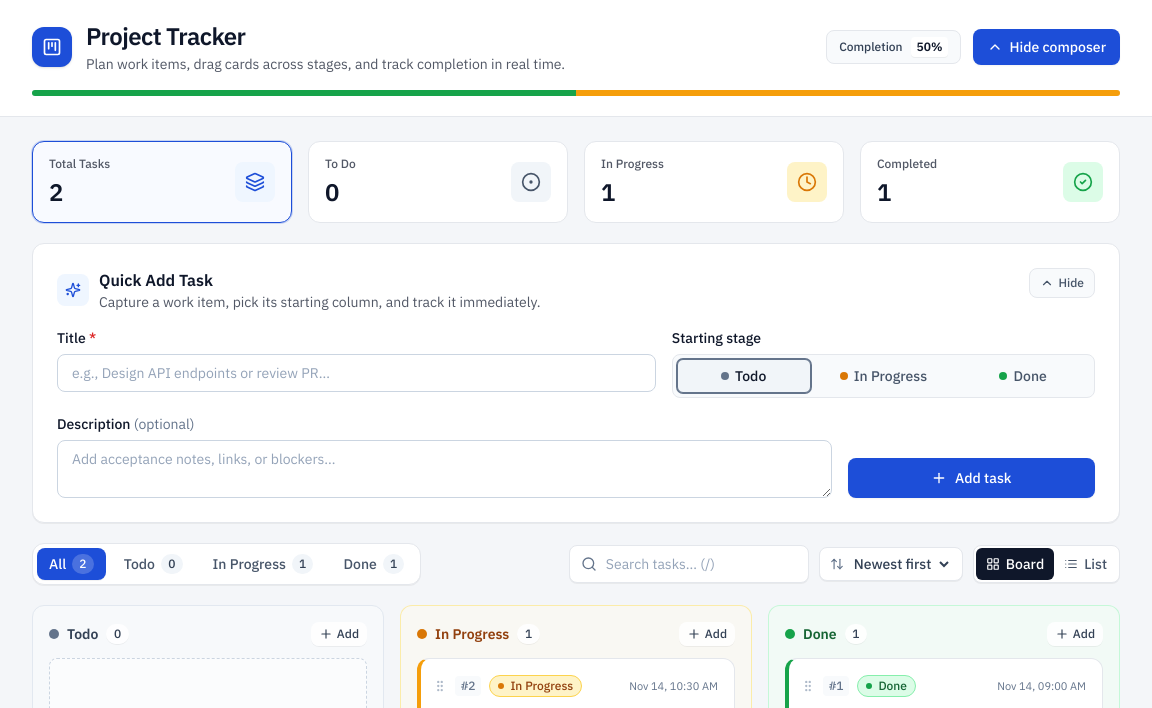
Test: Project Tracker App › filters tasks via search query and sorts items client-side
Sort alphabetically: Build React frontend comes before Setup FastAPI backend
Select "Title (A–Z)" in the dropdown named "Sort tasks" at [901, 564], box [850,554,952,574]
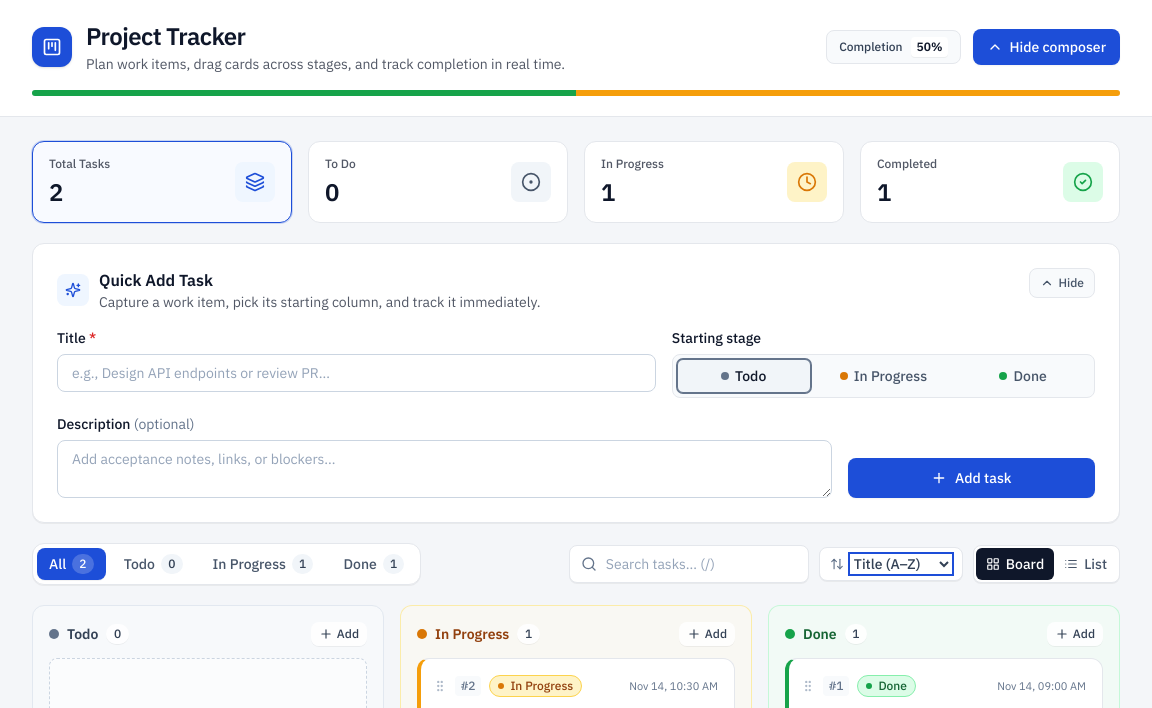
Click the button "List".
click(1086, 564)  # box [1054,548,1117,580]
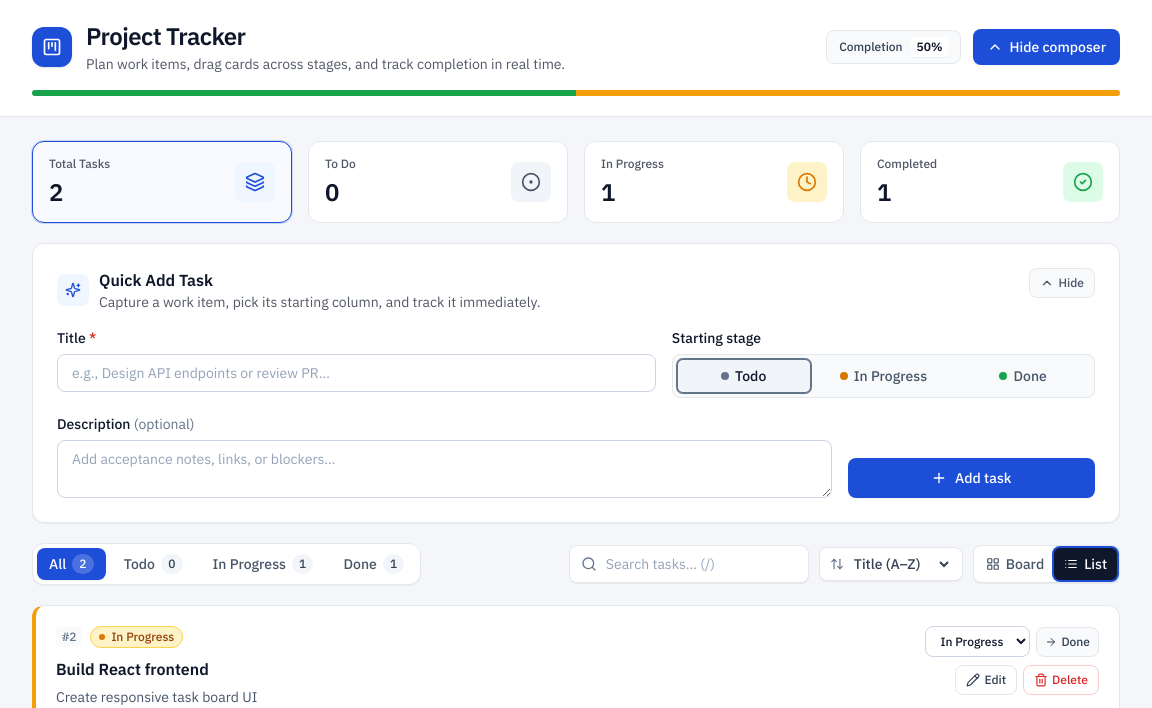
Expected: the text "Build React frontend" is shown, [56,658,209,680]
Search filters visible items
Type "fastapi" into the search field labelled "Search tasks".
click(689, 564); type("fastapi")  # box [569,545,809,583]
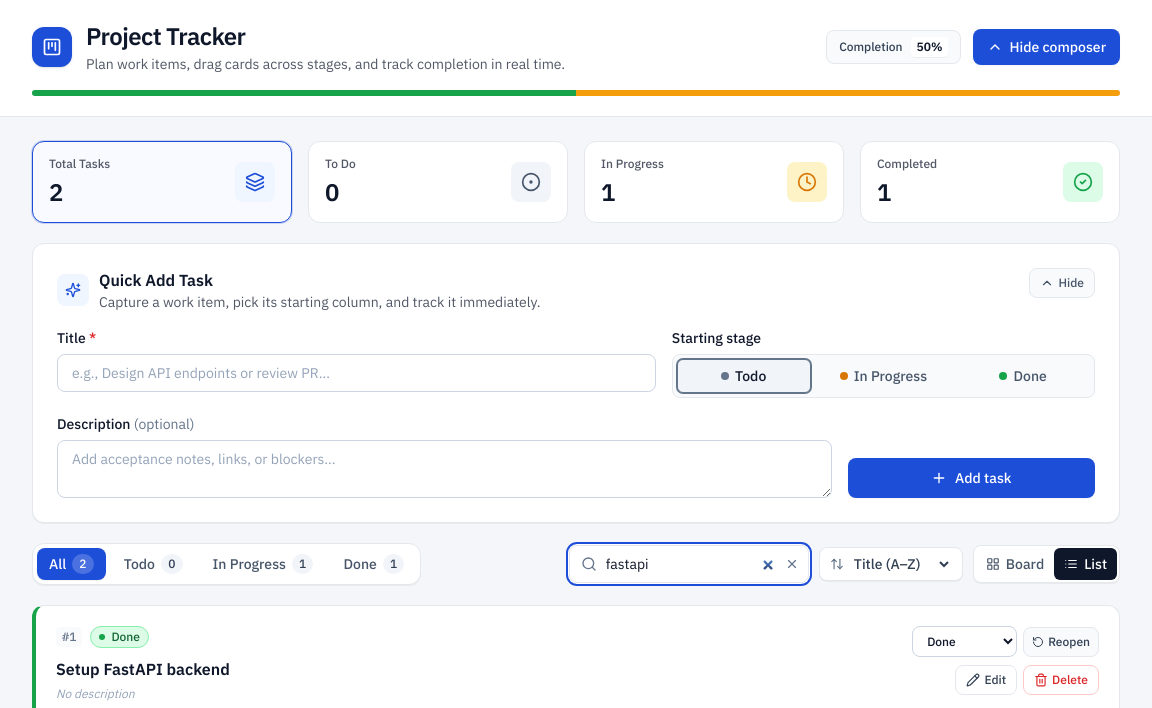
Expected: the button "Setup FastAPI backend" is shown, [56,658,230,680]
Expected: the button "Build React frontend" is gone
Non-matching search shows search empty state
Replace the text in the search field named "Search tasks" with "nonexistent keyword" at [689, 564], box [569,545,809,583]
(page scrolled)
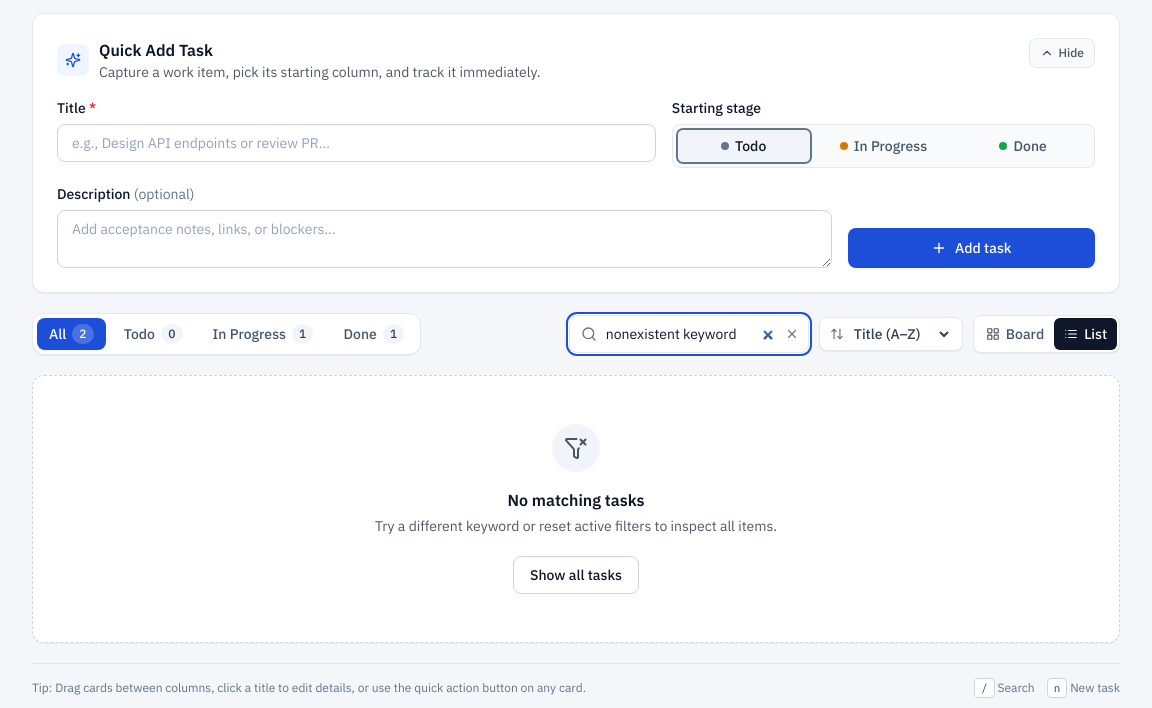
Expected: the heading "No matching tasks" is shown, [508,490,644,510]
Click the button "Show all tasks".
click(576, 575)  # box [513,556,639,594]
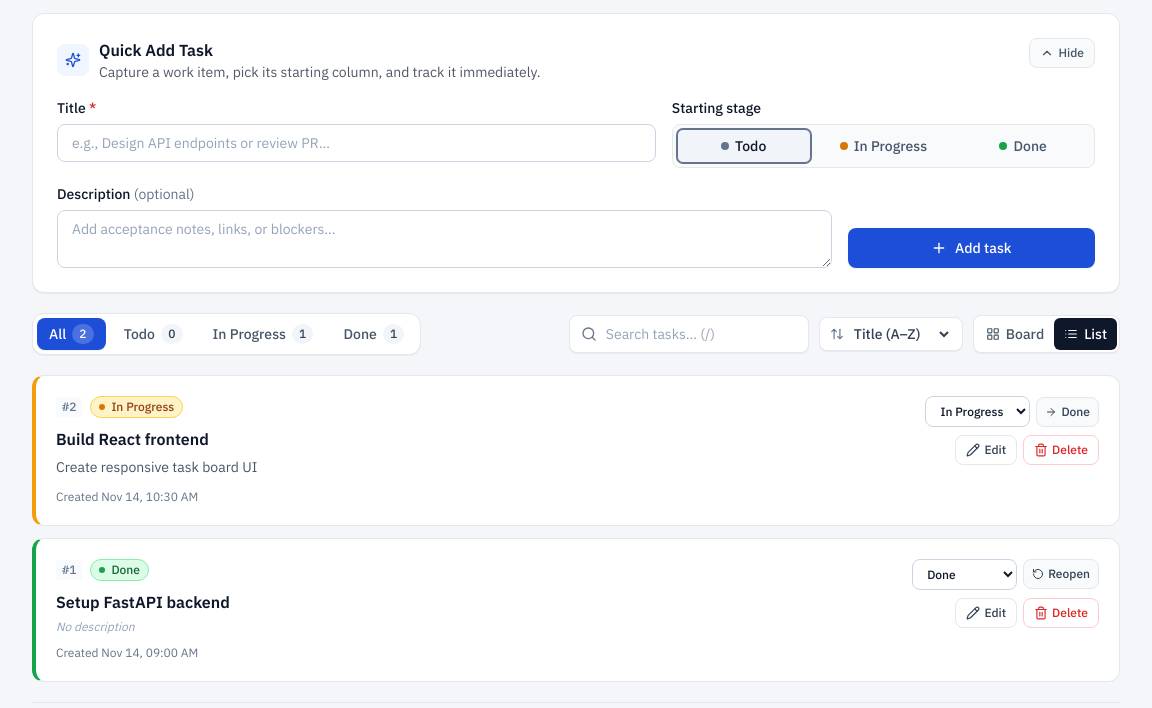
Expected: the button "Build React frontend" is shown, [56,428,209,450]
